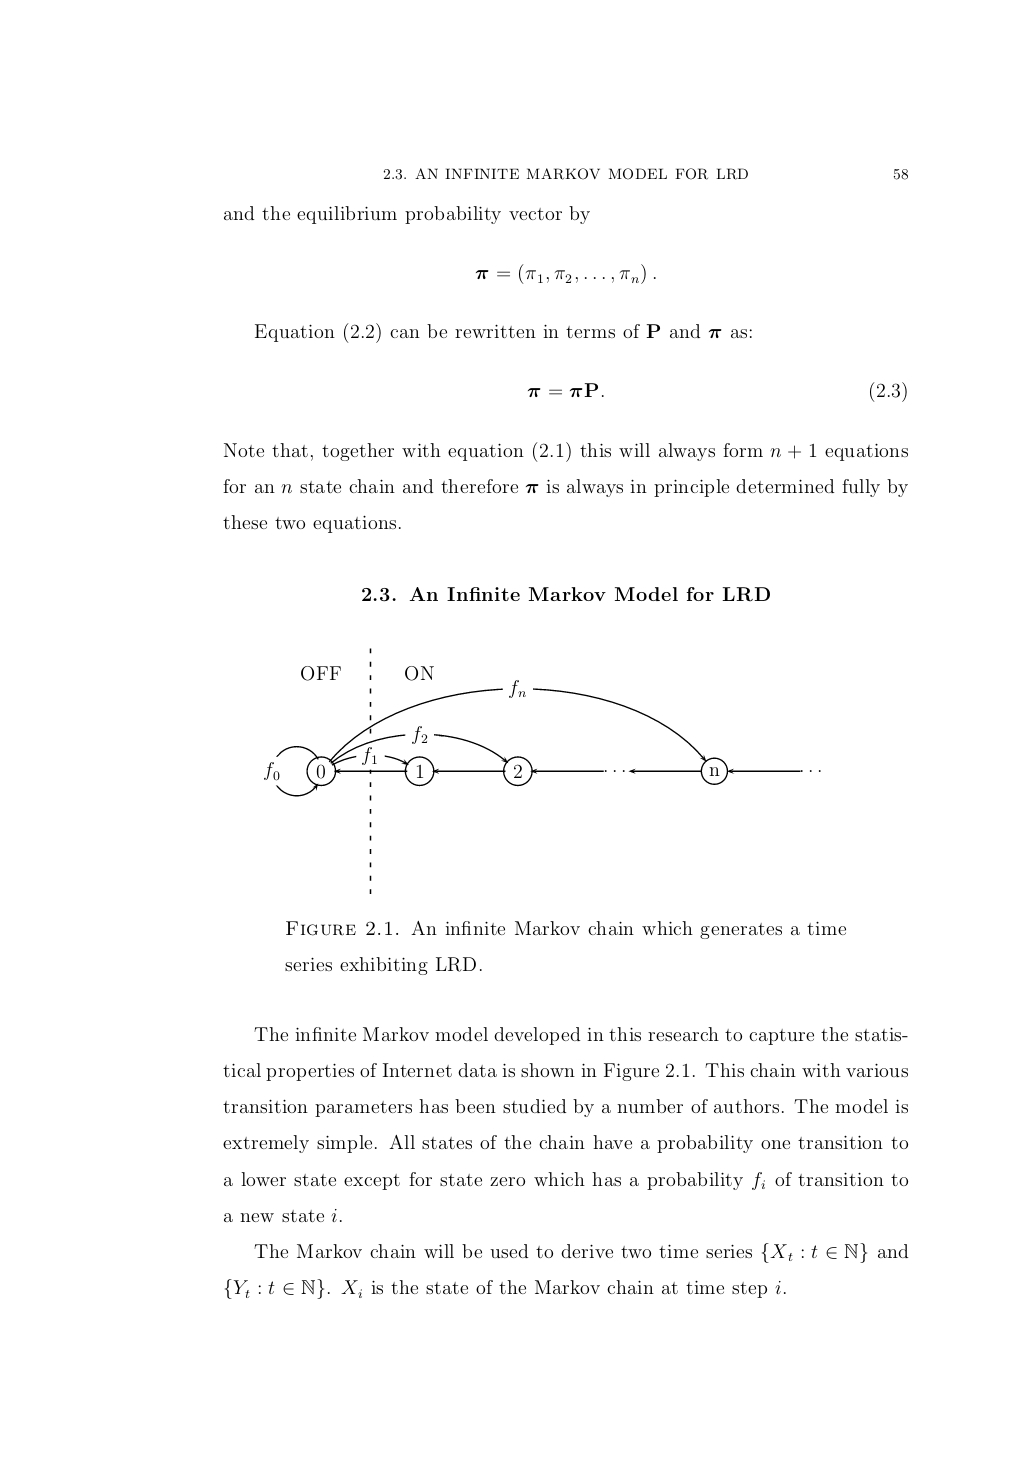figure: (264, 648, 820, 893)
formula: (527, 381, 906, 402), (475, 263, 655, 284)
